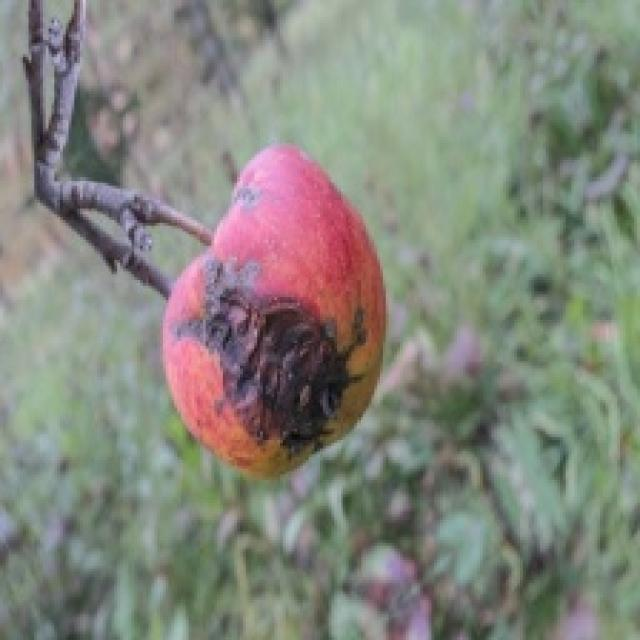rotten_apple: (169, 144, 375, 456)
